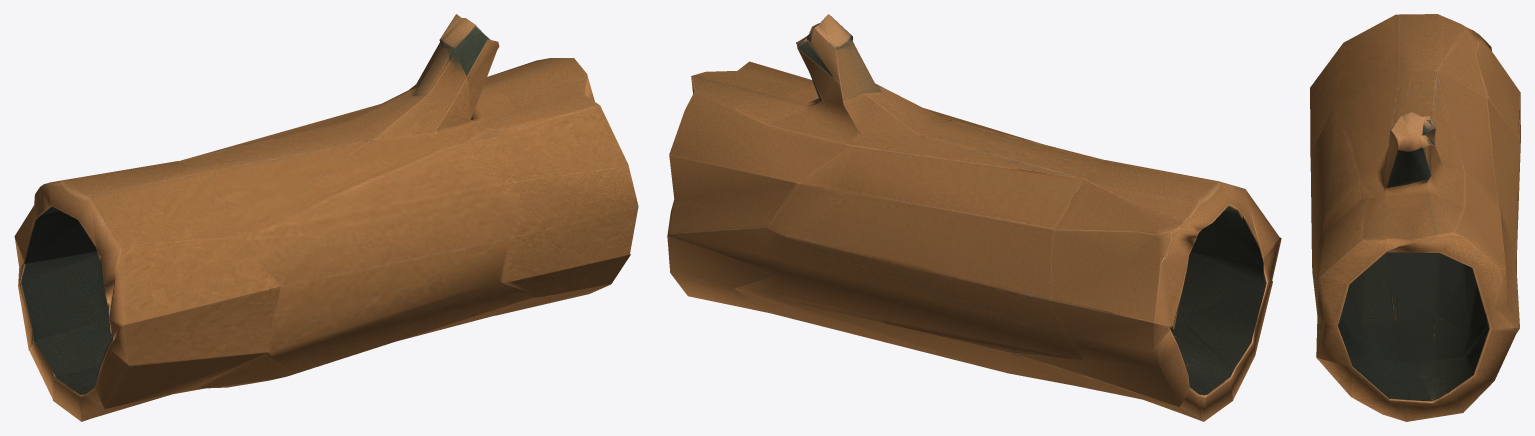
File: AW-VAR-TREE-008-v0.2.glb
3 views of the same model, side by side, from view 1: azimuth 30°, elevation 25°; view 2: azimuth 150°, elevation 25°; view 3: azimuth 270°, elevation 25° (orthographic). The views are drawn at different scales.
Visible parts, largest first — view 1: AW-VAR-TREE-008_meter_ground_pivot; view 2: AW-VAR-TREE-008_meter_ground_pivot; view 3: AW-VAR-TREE-008_meter_ground_pivot.
Boxes of the visible parts, left/top/right/bottom form: AW-VAR-TREE-008_meter_ground_pivot: left=14, top=14, right=638, bottom=421; AW-VAR-TREE-008_meter_ground_pivot: left=667, top=14, right=1281, bottom=421; AW-VAR-TREE-008_meter_ground_pivot: left=1310, top=14, right=1520, bottom=421.
Bounding box in the file's own units: 1.27 × 0.7 × 0.4985.
Materials: 1 (1 with a texture image).
